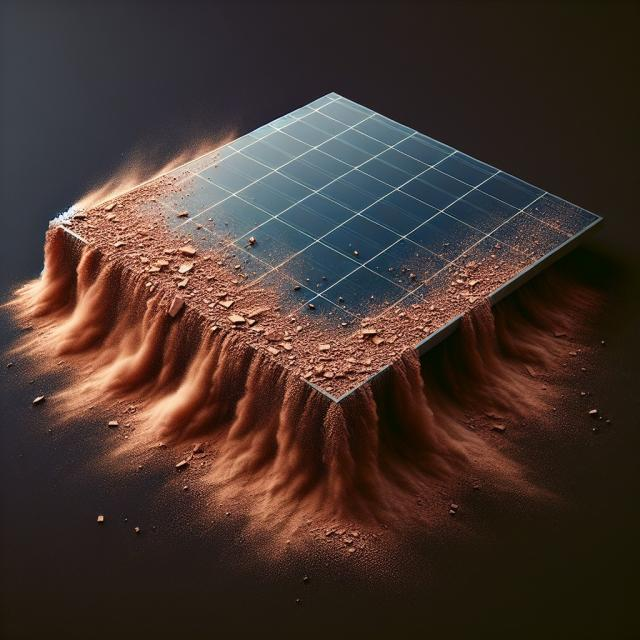Anomaly Solar Panel: (60, 0, 599, 471)
Surface Contaminant: (41, 131, 597, 433)
